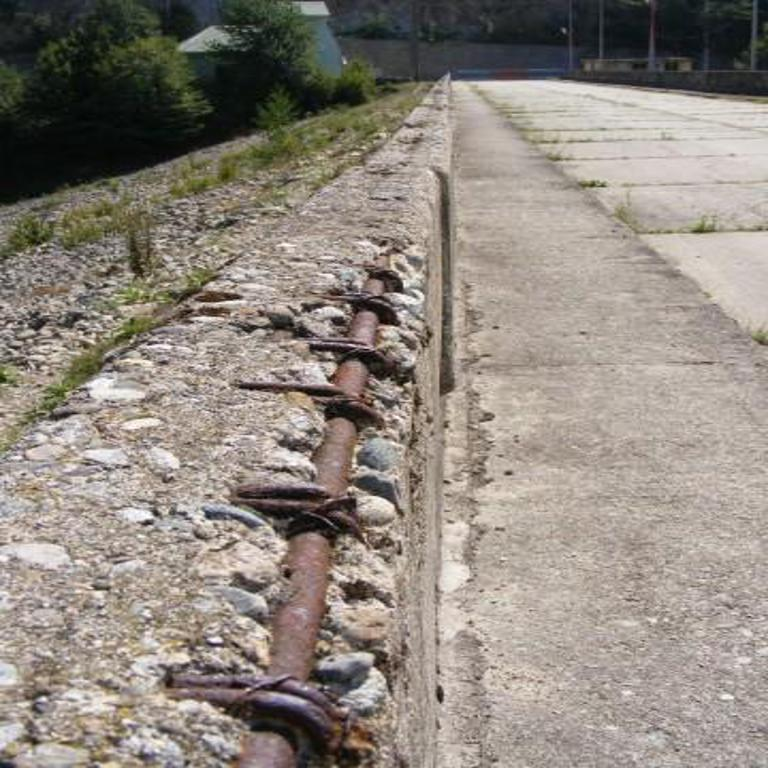exposed_rebar: (168, 255, 400, 768)
spalling: (106, 230, 444, 768)
